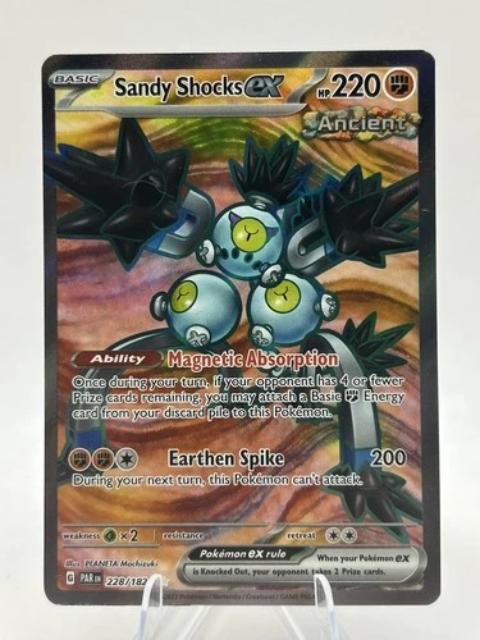Card: (38, 45, 443, 607)
Name: (110, 69, 289, 101)
